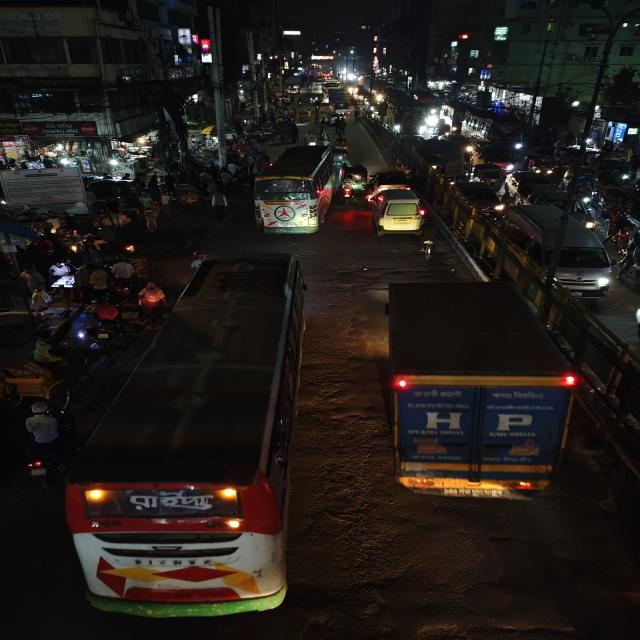bus: (67, 246, 300, 623), (249, 144, 336, 238), (461, 108, 526, 150), (384, 97, 438, 137)
car: (502, 203, 613, 301), (368, 186, 426, 238), (451, 181, 506, 219), (473, 145, 518, 171), (370, 168, 413, 190)
cng: (343, 161, 371, 191), (526, 152, 557, 175), (331, 149, 350, 167)
motorcycle: (17, 406, 64, 484), (86, 299, 138, 349), (618, 247, 640, 292), (339, 178, 357, 204)
pedestrian: (136, 281, 166, 318), (110, 258, 140, 286), (86, 266, 111, 298), (207, 182, 229, 211)
rickshaw: (0, 338, 92, 410), (170, 181, 202, 208)
truck: (378, 278, 579, 506)
